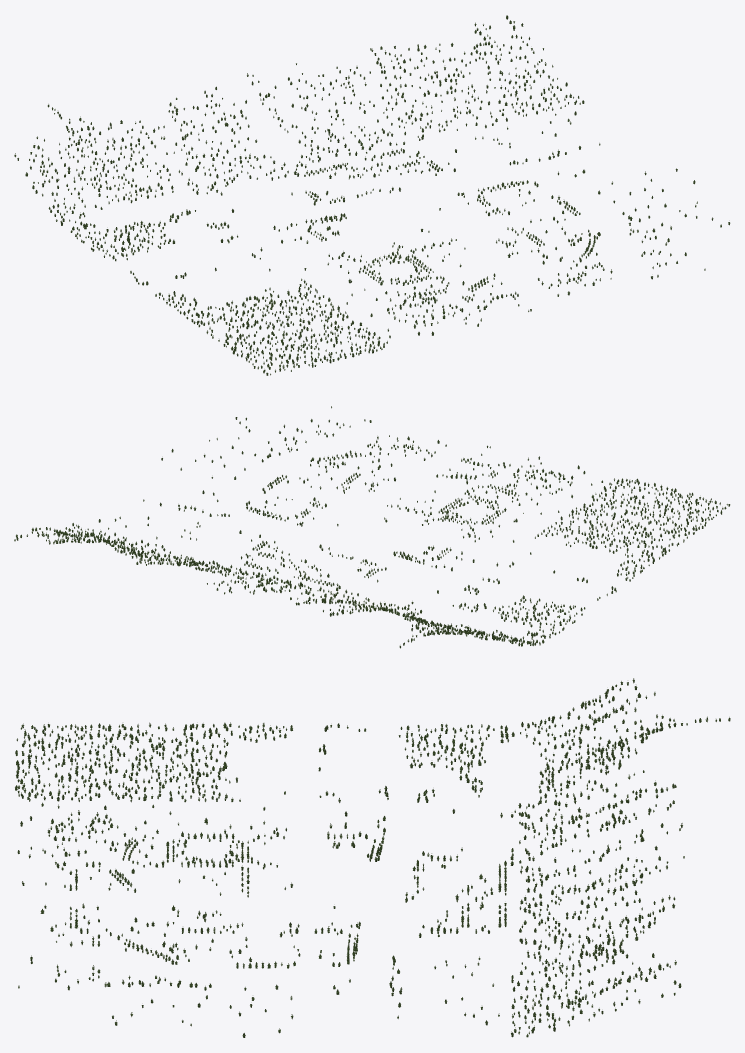
Rendered from trees.obj.
3 views of the same model, one above another, from view 1: azimuth 30°, elevation 25°; view 2: azimuth 150°, elevation 25°; view 3: azimuth 270°, elevation 25° (orthographic). The views are drawn at different scales.
Size of the model in its own units: 1981 by 167 by 1922.
4 materials, 4 textured.
